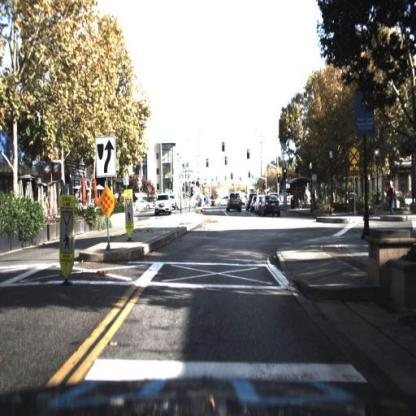car: (263, 194, 282, 220), (155, 192, 171, 217), (227, 194, 242, 215), (137, 197, 154, 212), (215, 196, 227, 208), (171, 195, 179, 212)
pedestrian: (385, 178, 399, 228), (345, 183, 354, 216)
trafficLight-Red: (245, 146, 253, 163), (282, 165, 290, 180), (275, 170, 282, 187), (221, 140, 228, 155)
